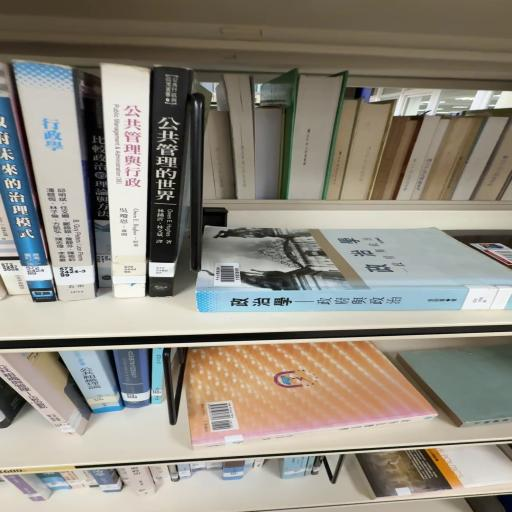flat: (185, 342, 438, 450), (196, 227, 512, 313)
